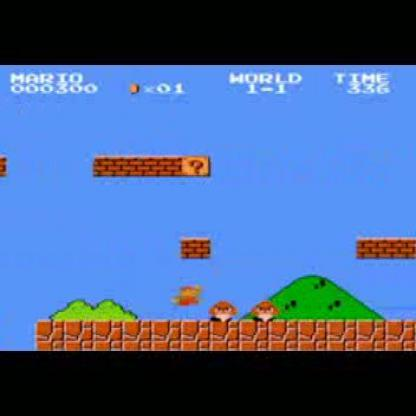Goomba: (210, 300, 238, 322), (253, 299, 276, 325)
Hoyo: (0, 317, 41, 352)
